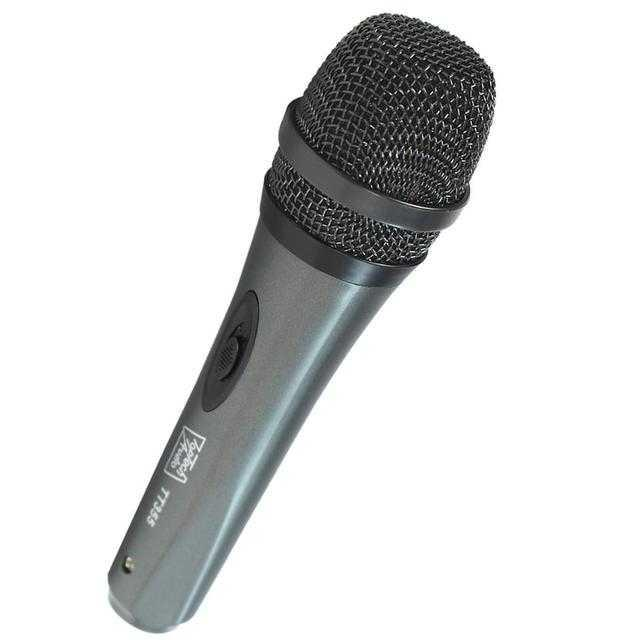microphone: (113, 13, 494, 633)
